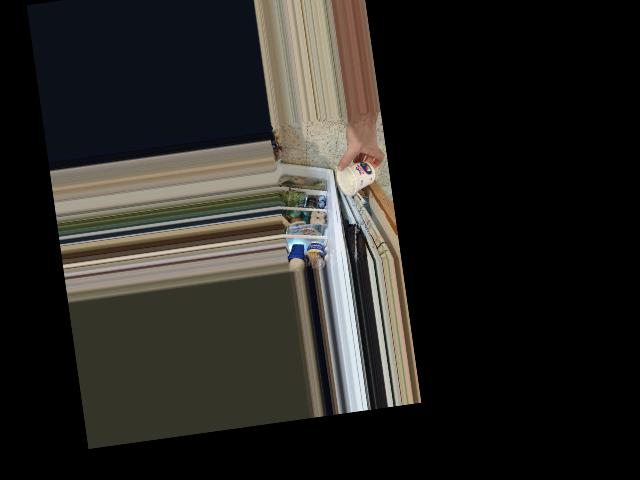cotage: (342, 156, 377, 196)
